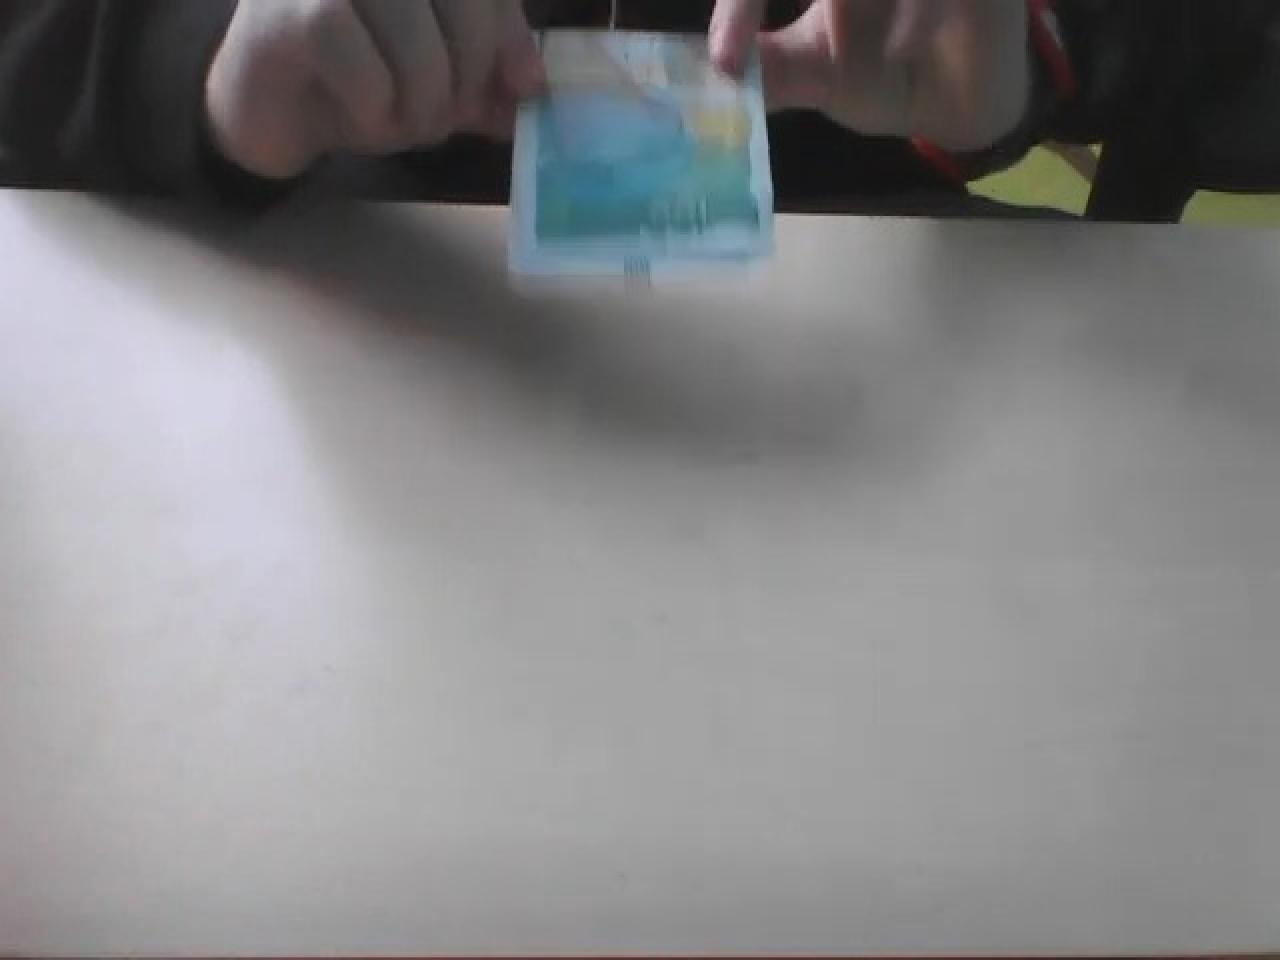100leva: (510, 26, 776, 290)
